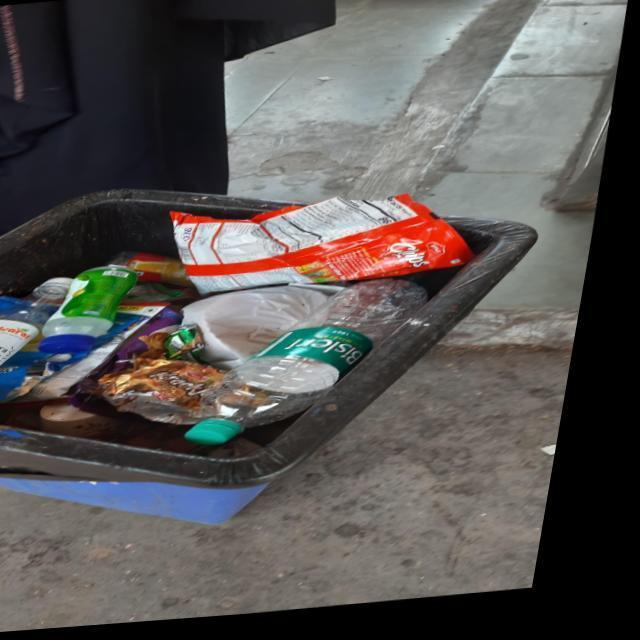Garbage: (0, 202, 483, 456)
Plastic_Bag: (193, 289, 353, 375)
Plastic_bottle: (201, 285, 438, 449), (50, 267, 147, 356), (0, 278, 82, 378), (116, 253, 205, 290)
Plastic_wraper: (178, 201, 483, 296), (112, 334, 238, 428), (31, 322, 161, 403), (0, 338, 106, 410), (127, 310, 194, 363), (176, 327, 220, 368), (107, 316, 156, 350), (127, 304, 179, 321), (100, 365, 145, 384), (0, 296, 29, 314)
